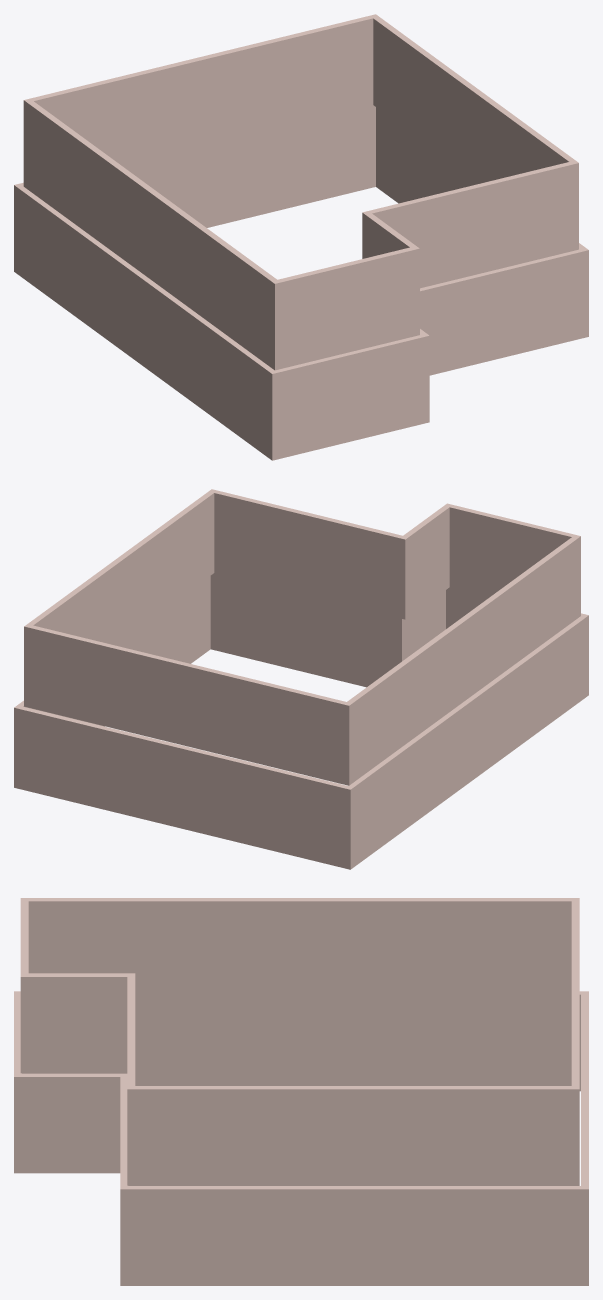
The model's file is house.fbx.
3 renders of one model, top to bottom at view 1: azimuth 30°, elevation 25°; view 2: azimuth 150°, elevation 25°; view 3: azimuth 270°, elevation 25°, orthographic. The views are drawn at different scales.
Visible parts, largest first — view 1: Room.001, Room; view 2: Room.001, Room; view 3: Room.001, Room.
Part boxes in pixels (<box>): Room.001: <box>23,14,578,370</box>; Room: <box>14,105,588,460</box>; Room.001: <box>24,489,580,785</box>; Room: <box>14,573,588,869</box>; Room.001: <box>20,898,579,1185</box>; Room: <box>14,991,588,1285</box>.
Bounding box in the file's own units: 1760 × 799 × 2160.
